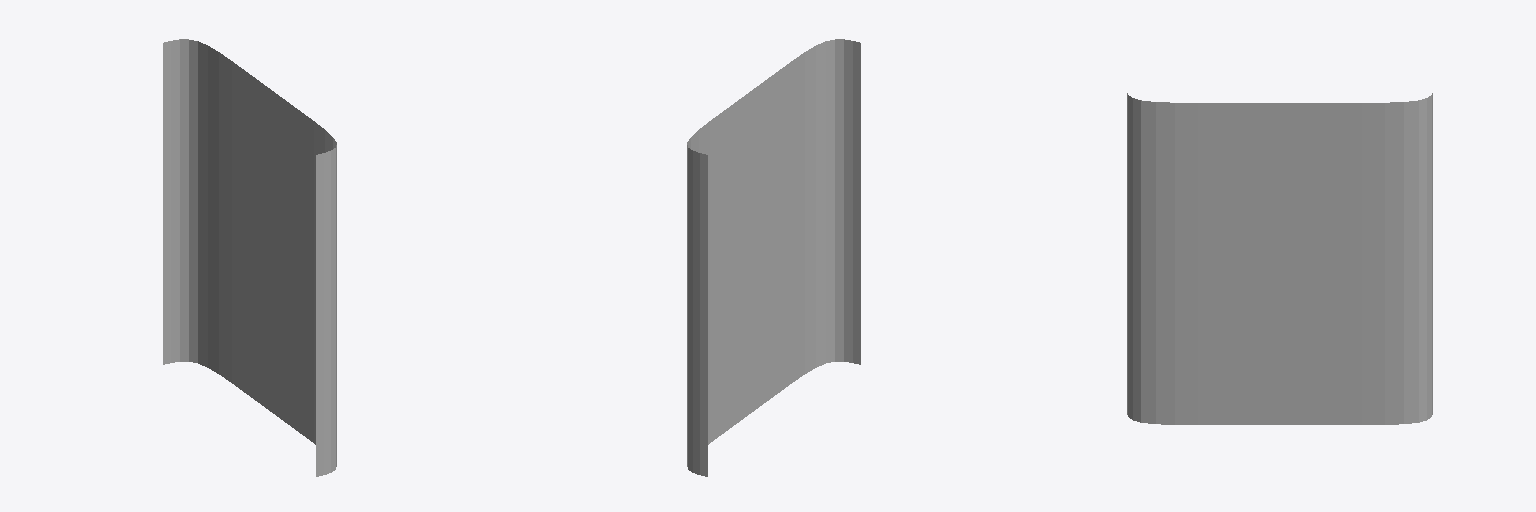
Rendered from Wall_01.obj.
The picture shows the model from 3 angles: view 1: azimuth 30°, elevation 25°; view 2: azimuth 150°, elevation 25°; view 3: azimuth 270°, elevation 25°; orthographic projection.
Parts seen in each view (by area): view 1: pCube550; view 2: pCube550; view 3: pCube550.
Boxes of the visible parts, x1=… form: pCube550: x1=163, y1=39, x2=336, y2=476; pCube550: x1=687, y1=39, x2=860, y2=476; pCube550: x1=1127, y1=93, x2=1432, y2=424.
Bounding box in the file's own units: 0.7964 × 7.37 × 6.35.